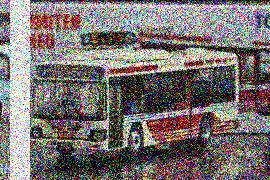bus: (36, 43, 243, 157)
